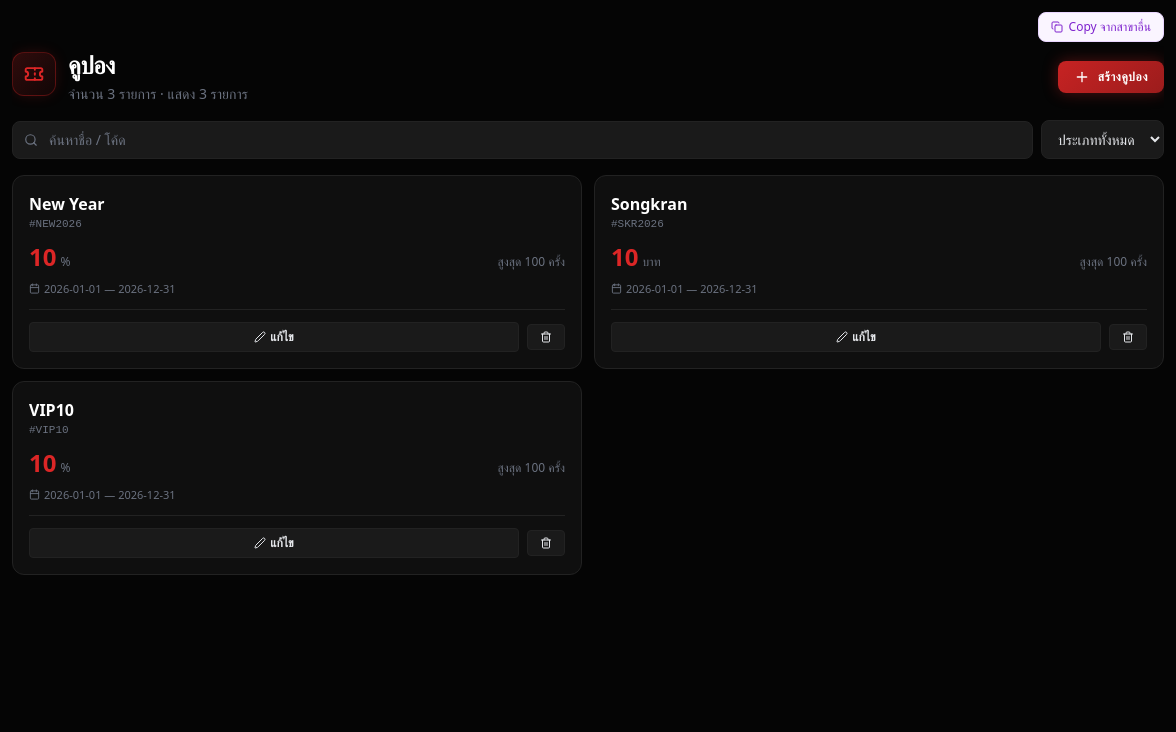
Test: CouponTab — search + filter › CF2 search by code (case-insensitive)
Type "new2026" into the field with placeholder "ค้นหาชื่อ / โค้ด". click: (522, 140)
box: [12,120,1033,158]
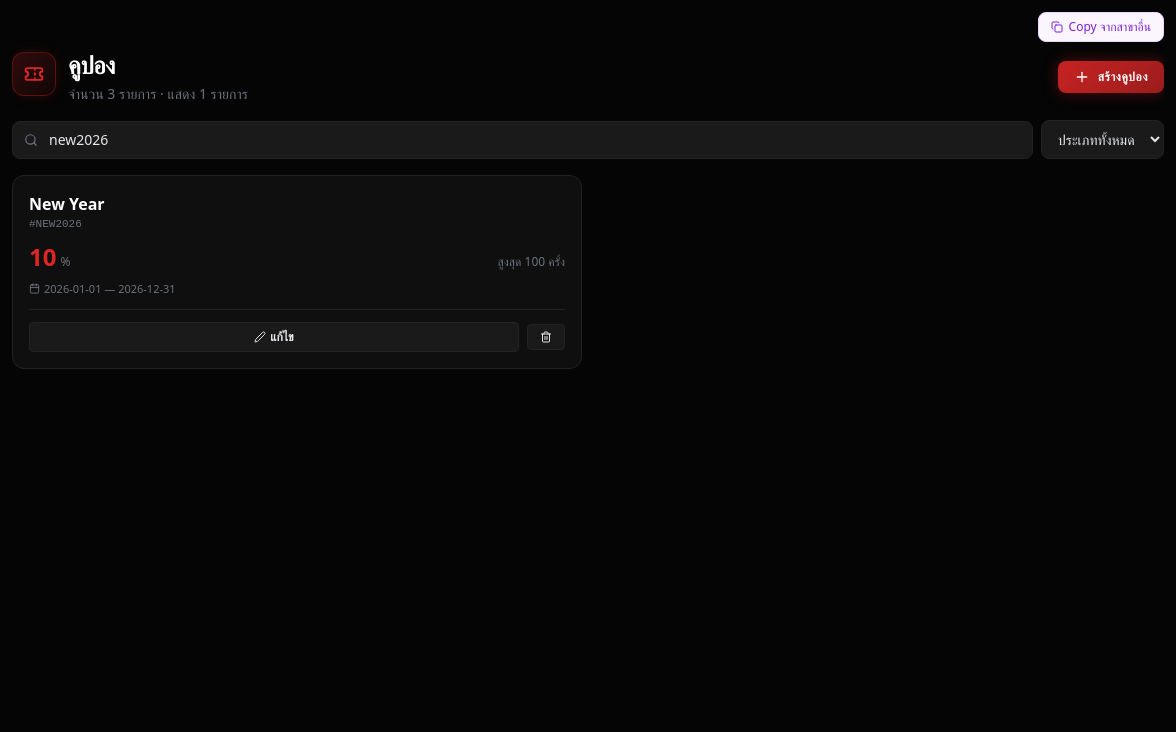
Check: the heading "New Year" is shown, box [29,193,105,215]
Check: the heading "Songkran" is gone
